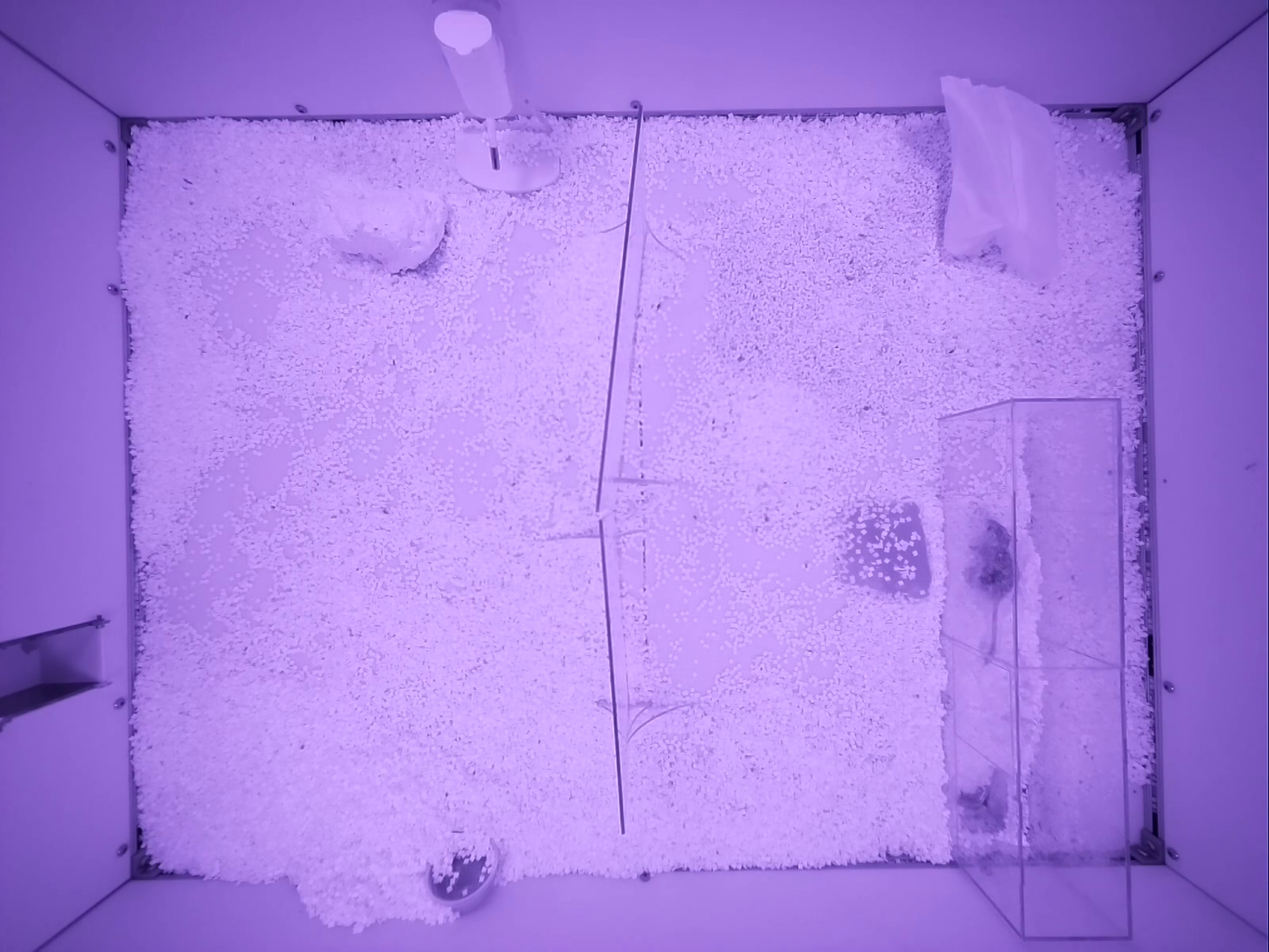adult_back: (967, 518, 1014, 657)
